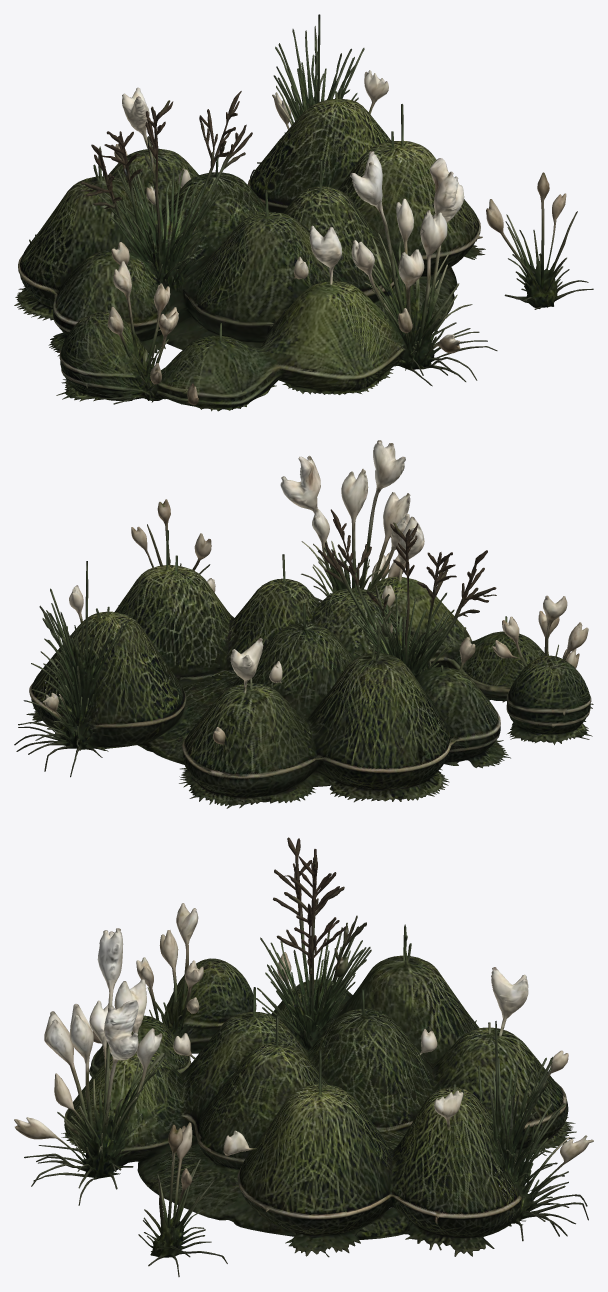
Rendered from peach_buds.glb.
3 views of the same model, one above another, from view 1: azimuth 30°, elevation 25°; view 2: azimuth 150°, elevation 25°; view 3: azimuth 270°, elevation 25° (orthographic). The views are drawn at different scales.
Visible parts, largest first — view 1: tripo_node_bd09401e-c3ff-4f22-abfb-cf5856819fe6; view 2: tripo_node_bd09401e-c3ff-4f22-abfb-cf5856819fe6; view 3: tripo_node_bd09401e-c3ff-4f22-abfb-cf5856819fe6.
Boxes of the visible parts, bbox=[...] form: tripo_node_bd09401e-c3ff-4f22-abfb-cf5856819fe6: bbox=[14, 14, 593, 411]; tripo_node_bd09401e-c3ff-4f22-abfb-cf5856819fe6: bbox=[14, 440, 593, 808]; tripo_node_bd09401e-c3ff-4f22-abfb-cf5856819fe6: bbox=[14, 837, 593, 1276].
Size of the model in its own units: 0.961 by 0.4029 by 0.8937.
Materials: 1 (1 with a texture image).
